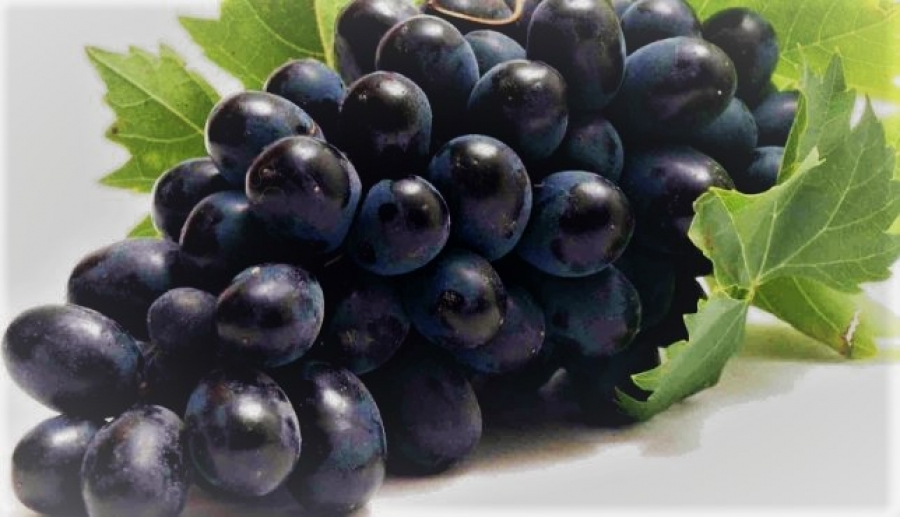Black grapes: (8, 5, 819, 517)
